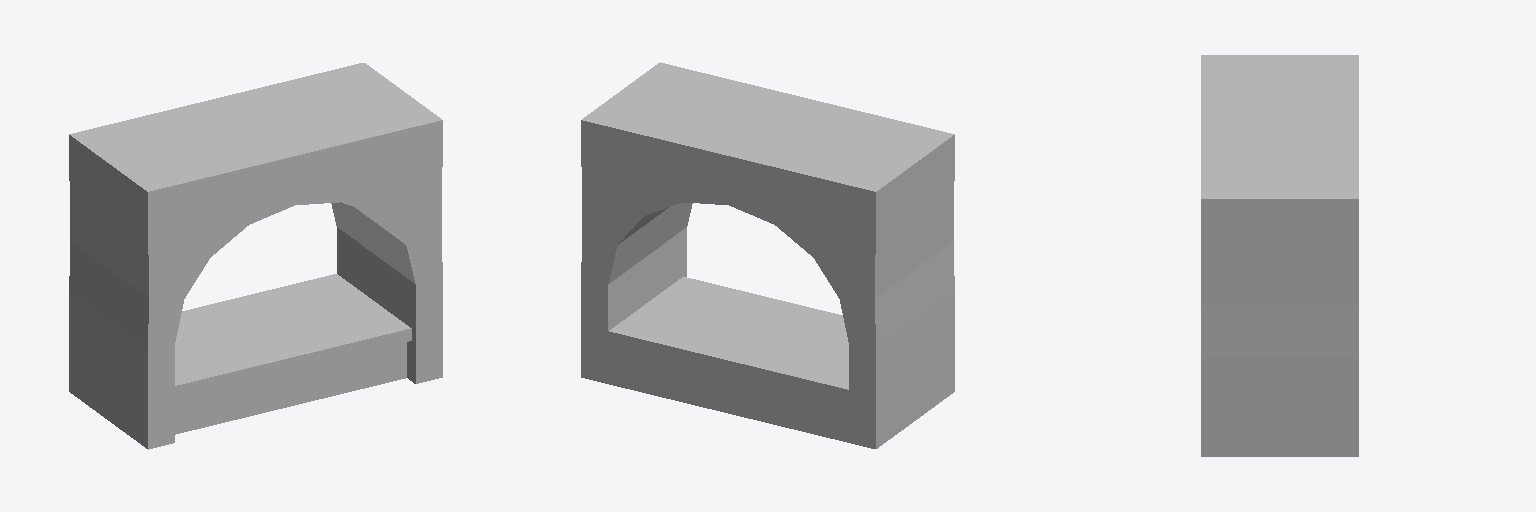
Rendered from Forge.obj.
The picture shows the model from 3 angles: view 1: azimuth 30°, elevation 25°; view 2: azimuth 150°, elevation 25°; view 3: azimuth 270°, elevation 25°; orthographic projection.
Visible parts, largest first — view 1: Forge; view 2: Forge; view 3: Forge.
Part boxes in pixels (left/top/right/bottom): Forge: left=69, top=63, right=442, bottom=449; Forge: left=581, top=62, right=954, bottom=448; Forge: left=1201, top=55, right=1358, bottom=456.
Bounding box in the file's own units: 3.79 × 3.16 × 1.75.